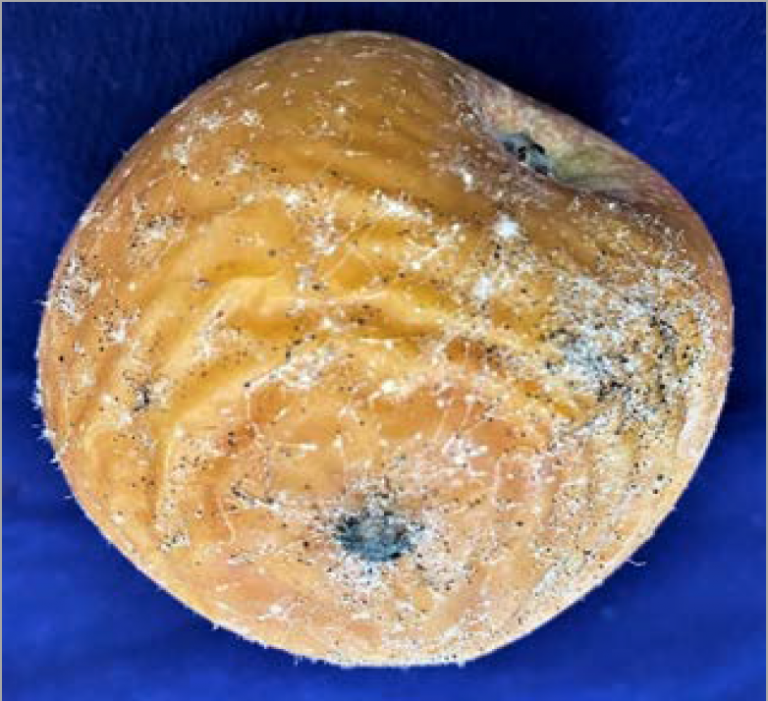Mucor: (466, 224, 681, 399), (523, 451, 630, 558), (322, 489, 415, 558)
